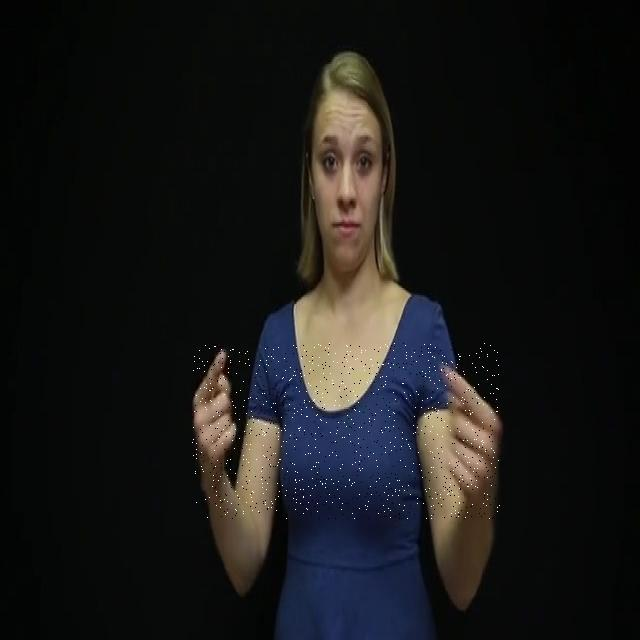allergy: (192, 343, 500, 519)
